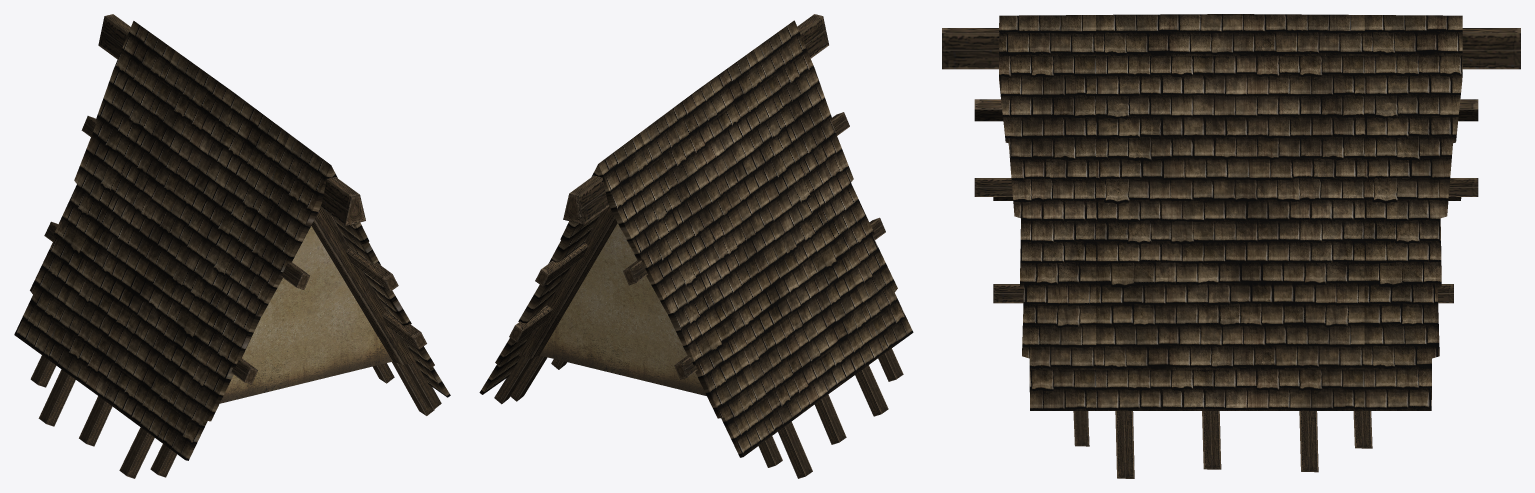
Rendered from Roof_8X8_01a.fbx.
3 renders of one model, left to right at view 1: azimuth 30°, elevation 25°; view 2: azimuth 150°, elevation 25°; view 3: azimuth 270°, elevation 25°, orthographic. The views are drawn at different scales.
Visible parts, largest first — view 1: Roof_8X8_01a; view 2: Roof_8X8_01a; view 3: Roof_8X8_01a.
Boxes of the visible parts, x1=… form: Roof_8X8_01a: x1=14, y1=14, x2=450, y2=478; Roof_8X8_01a: x1=479, y1=14, x2=913, y2=478; Roof_8X8_01a: x1=942, y1=14, x2=1520, y2=478.
Size of the model in its own units: 10.43 by 10.61 by 14.58.
